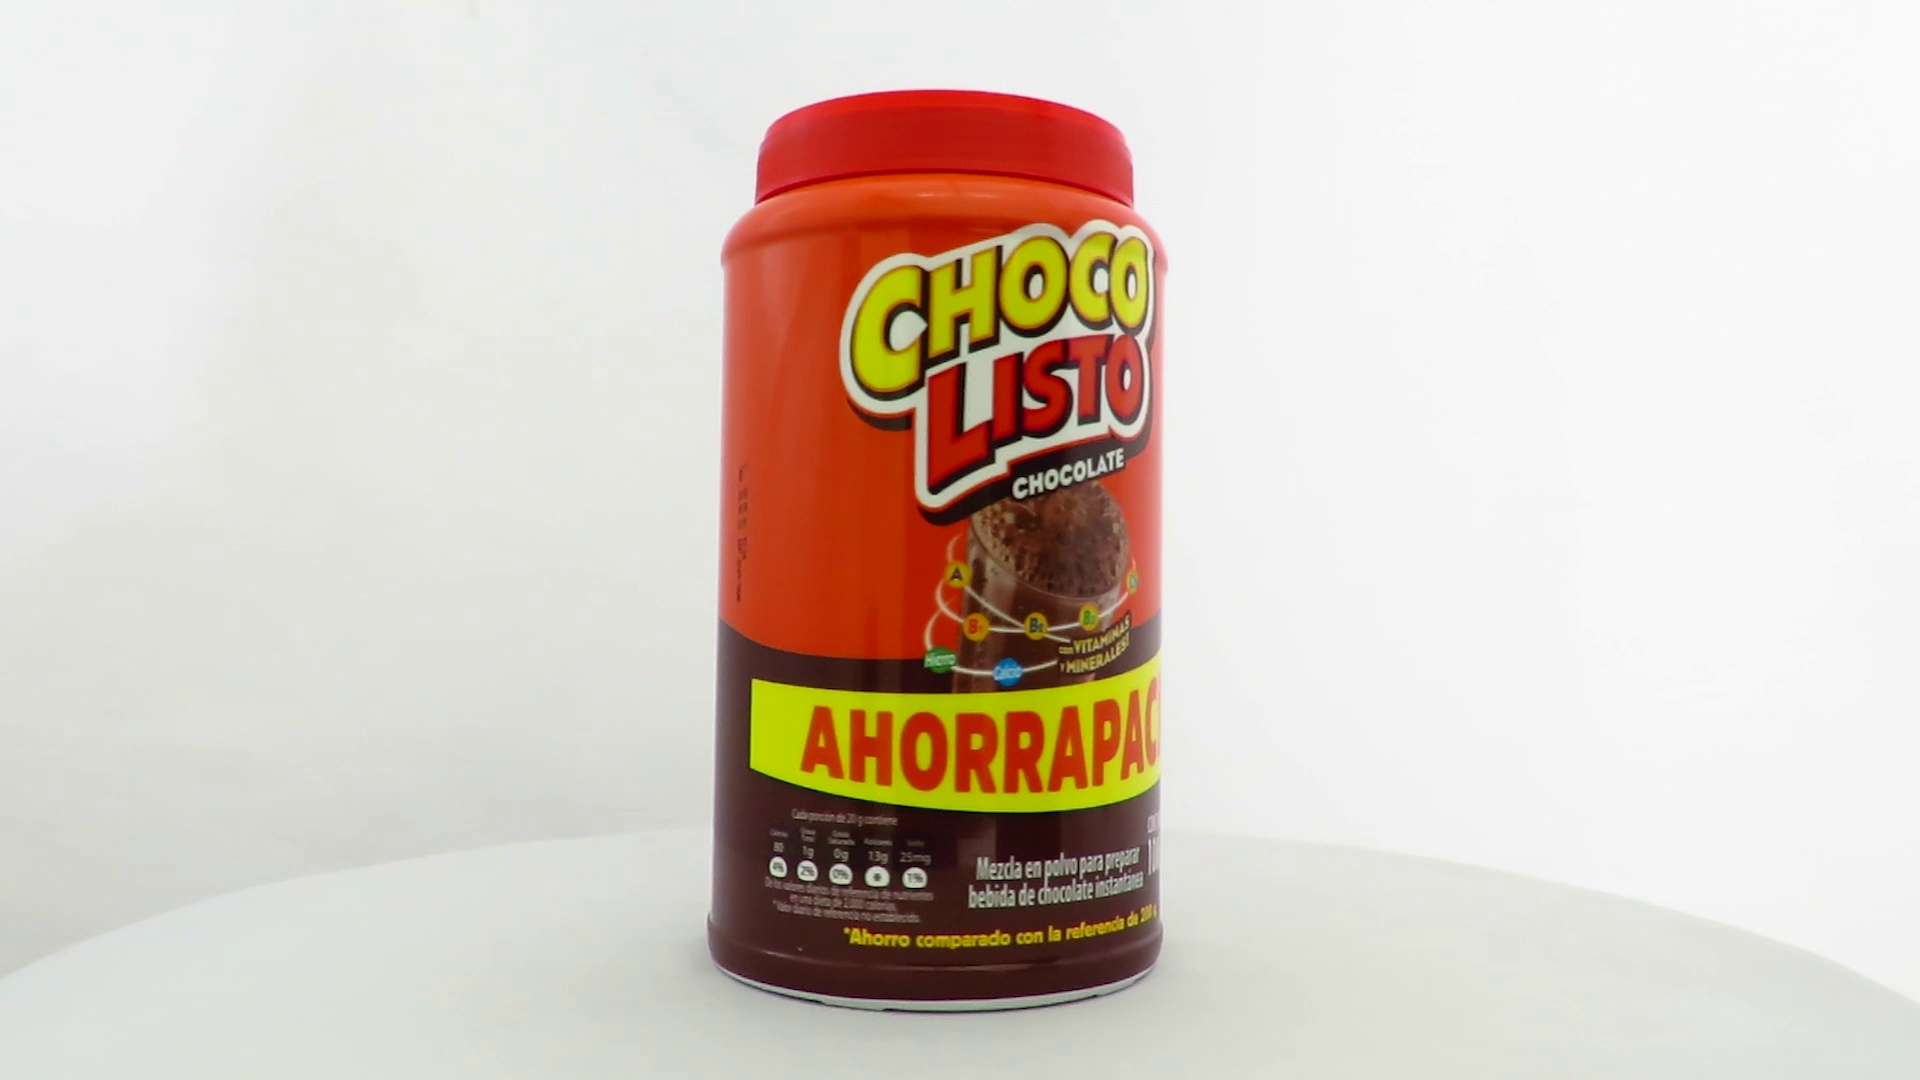COL0170103TRR00100: (702, 84, 1174, 1021)
